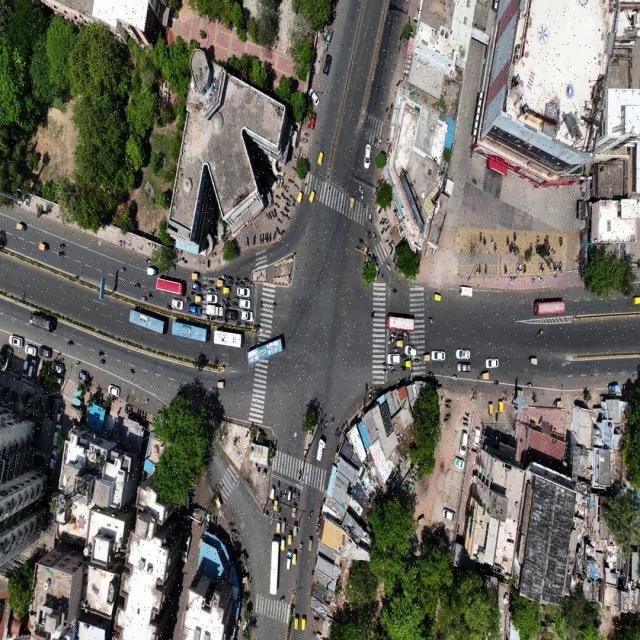3W: (525, 354, 540, 368), (431, 290, 444, 304), (15, 219, 26, 235), (308, 188, 318, 204), (486, 399, 494, 419), (478, 369, 490, 382), (317, 150, 325, 168), (38, 241, 49, 254), (301, 610, 307, 633), (294, 609, 300, 631), (146, 265, 159, 275), (189, 280, 202, 290), (215, 490, 222, 508), (190, 269, 201, 280), (348, 196, 355, 213), (308, 535, 314, 554), (292, 548, 298, 567), (498, 398, 505, 414), (291, 503, 298, 519), (421, 352, 431, 363), (268, 484, 275, 499), (282, 517, 288, 533), (275, 518, 281, 534), (280, 536, 286, 552), (293, 519, 298, 538), (288, 529, 293, 546), (216, 278, 225, 286), (404, 360, 413, 368), (194, 295, 202, 303), (223, 286, 230, 295), (395, 341, 404, 348), (274, 497, 278, 510)
Bus: (245, 334, 287, 368), (125, 309, 165, 337), (168, 320, 207, 344), (531, 298, 569, 318), (212, 328, 245, 351), (269, 537, 280, 596), (386, 313, 416, 332), (155, 278, 185, 296)
Cars: (456, 426, 468, 459), (306, 86, 322, 109), (439, 504, 458, 522), (322, 53, 336, 77), (361, 144, 373, 169), (50, 424, 64, 445), (458, 285, 475, 300), (307, 112, 321, 130), (7, 333, 23, 348), (24, 342, 38, 358), (38, 344, 54, 358), (49, 449, 59, 471), (456, 346, 471, 360), (54, 407, 67, 423), (240, 309, 256, 322), (485, 356, 500, 369), (107, 383, 121, 396), (405, 344, 418, 358), (52, 360, 64, 375), (456, 363, 474, 373), (431, 350, 447, 361), (170, 298, 184, 310), (188, 302, 202, 314), (224, 308, 238, 320), (237, 286, 251, 298), (386, 353, 400, 365), (204, 294, 220, 304), (239, 298, 252, 310), (286, 549, 292, 573), (29, 358, 36, 378), (21, 358, 28, 377), (288, 486, 292, 504)
LCV: (204, 306, 224, 316)
M2W: (368, 306, 376, 324), (536, 326, 546, 339), (390, 285, 400, 298), (307, 504, 315, 520), (375, 51, 382, 67), (557, 235, 565, 247), (57, 240, 67, 249), (96, 348, 105, 358), (132, 281, 142, 290), (356, 180, 362, 195), (252, 231, 258, 246), (286, 176, 296, 185), (492, 377, 501, 387), (503, 262, 509, 277), (56, 250, 67, 258), (280, 208, 287, 220), (299, 541, 305, 555), (302, 129, 311, 138), (426, 316, 434, 326), (494, 411, 499, 427), (474, 260, 479, 276), (533, 232, 541, 242), (366, 230, 372, 243), (386, 261, 392, 274), (272, 207, 278, 220), (522, 263, 528, 276), (330, 413, 336, 426), (553, 259, 560, 270), (489, 233, 494, 248), (97, 358, 106, 366), (272, 230, 278, 242), (289, 190, 295, 202), (451, 373, 459, 382), (472, 176, 478, 188), (120, 264, 127, 274), (128, 366, 135, 376), (300, 138, 310, 145), (257, 232, 262, 246), (292, 484, 297, 498), (368, 212, 373, 225), (245, 236, 250, 249), (483, 235, 488, 248), (494, 241, 499, 254), (513, 228, 518, 241), (278, 504, 283, 517), (67, 339, 75, 347), (184, 296, 192, 304), (390, 368, 398, 376), (165, 304, 172, 313), (377, 214, 384, 223), (361, 201, 367, 211), (263, 213, 269, 223), (442, 418, 452, 424), (478, 232, 483, 244), (269, 513, 274, 525), (146, 292, 154, 299), (189, 290, 197, 297), (208, 286, 215, 294), (282, 186, 289, 194), (389, 331, 397, 338), (516, 261, 520, 275), (483, 263, 488, 274), (537, 262, 542, 273), (138, 296, 147, 302), (385, 225, 391, 234), (400, 364, 406, 373), (506, 233, 510, 246), (542, 260, 546, 273), (276, 479, 280, 492), (380, 227, 385, 237), (221, 272, 228, 279), (274, 193, 281, 200), (144, 258, 152, 264), (231, 302, 239, 308), (242, 276, 250, 282), (248, 280, 254, 288), (373, 232, 377, 244), (279, 489, 283, 501), (296, 491, 300, 503), (444, 398, 453, 403), (208, 280, 215, 286), (216, 286, 222, 293), (228, 273, 234, 280), (234, 274, 241, 280), (228, 280, 235, 286), (233, 280, 240, 286), (384, 218, 391, 224), (385, 102, 388, 116), (445, 402, 452, 408), (388, 338, 394, 345), (382, 368, 388, 375), (401, 353, 407, 360), (202, 282, 207, 290), (361, 189, 365, 199), (444, 413, 454, 417), (414, 357, 419, 365), (233, 295, 239, 301), (224, 302, 230, 308), (266, 232, 269, 244), (390, 348, 399, 352), (284, 486, 287, 498), (224, 296, 231, 301), (219, 299, 224, 306), (239, 281, 246, 286), (385, 238, 390, 245), (382, 361, 387, 368), (270, 501, 273, 512), (397, 334, 402, 340), (402, 332, 409, 336)
Truck: (28, 309, 56, 334)
